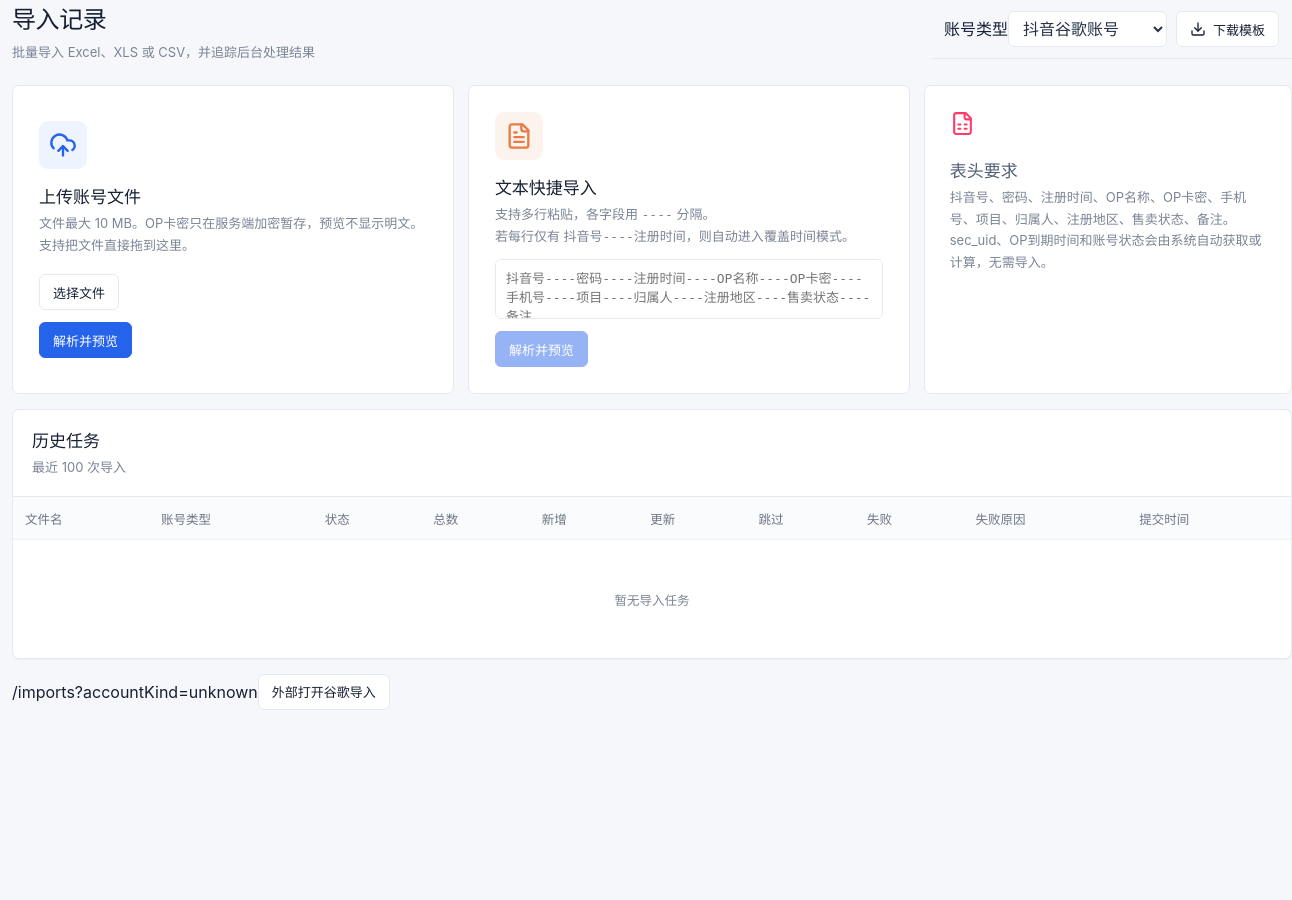
Test case: imports page › defaults an invalid account kind to Google and updates the URL when changed
Step 1. Select "抖音邮箱号" in the dropdown labelled "账号类型" → (1088, 29), box [1008, 11, 1167, 47]
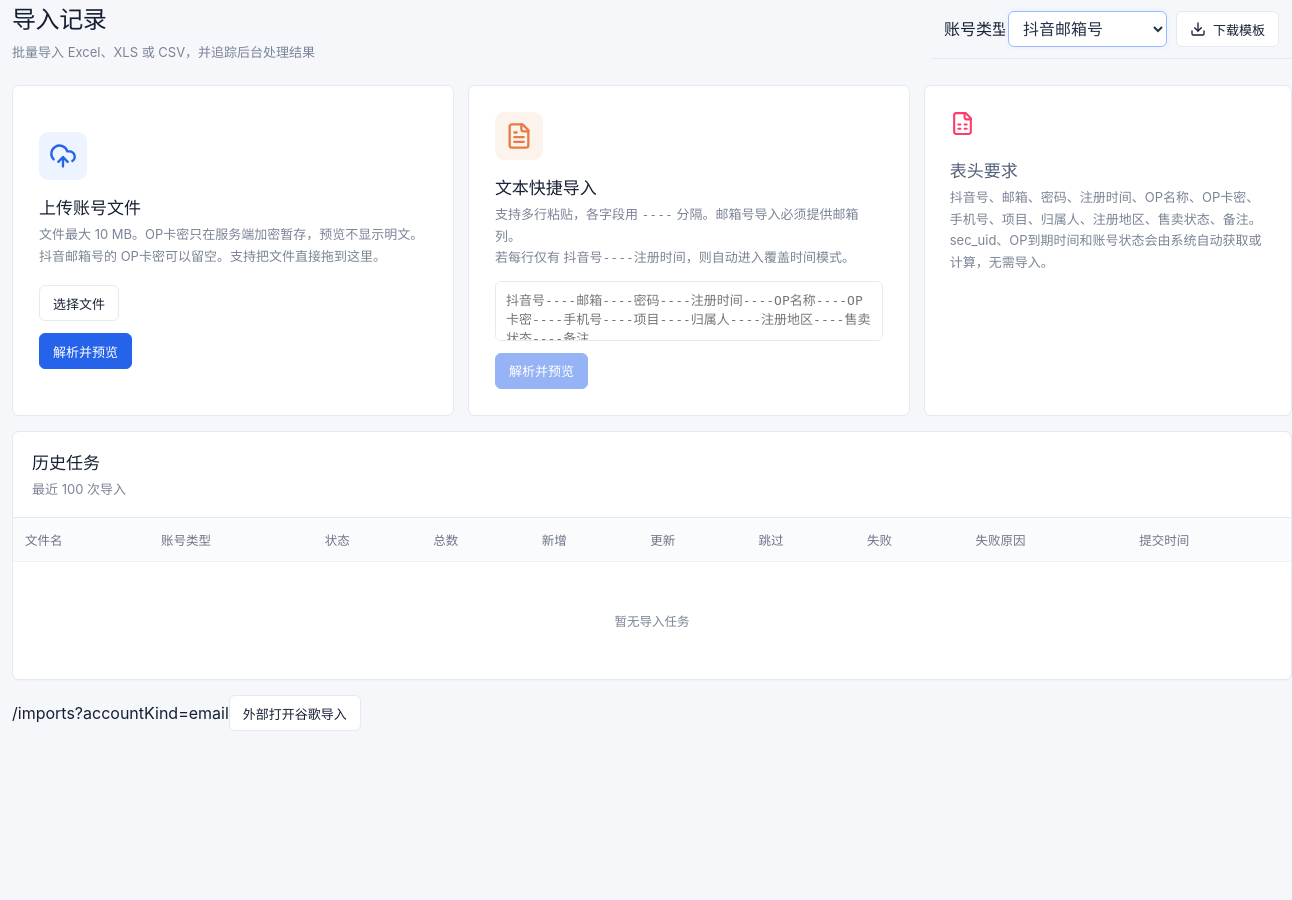
Now the text with test id "current-location" reads "/imports?accountKind=email", box [12, 703, 229, 723]
